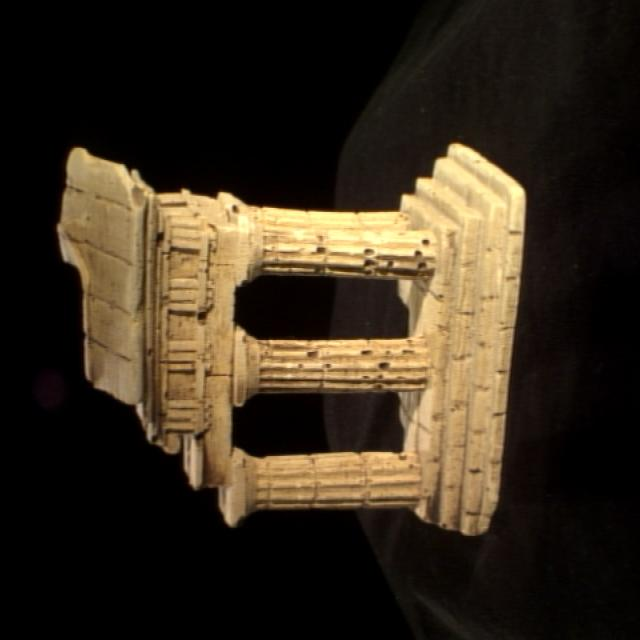Instance-Segmentation: (58, 144, 525, 533)
